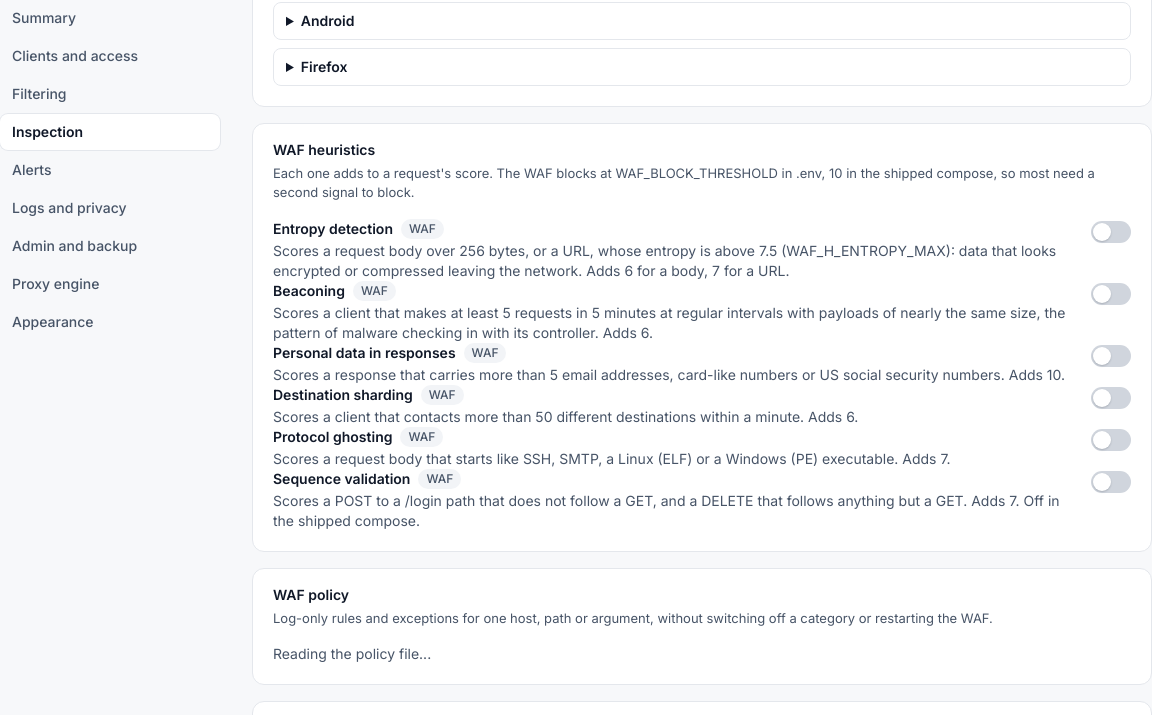
it: Settings sections, part B › Inspection › says the WAF took the toggle when it did
(page scrolled)
Click the switch named "Personal data in responses" in the row of "Personal data in responses". click: [1111, 356]
box: [1091, 344, 1131, 366]
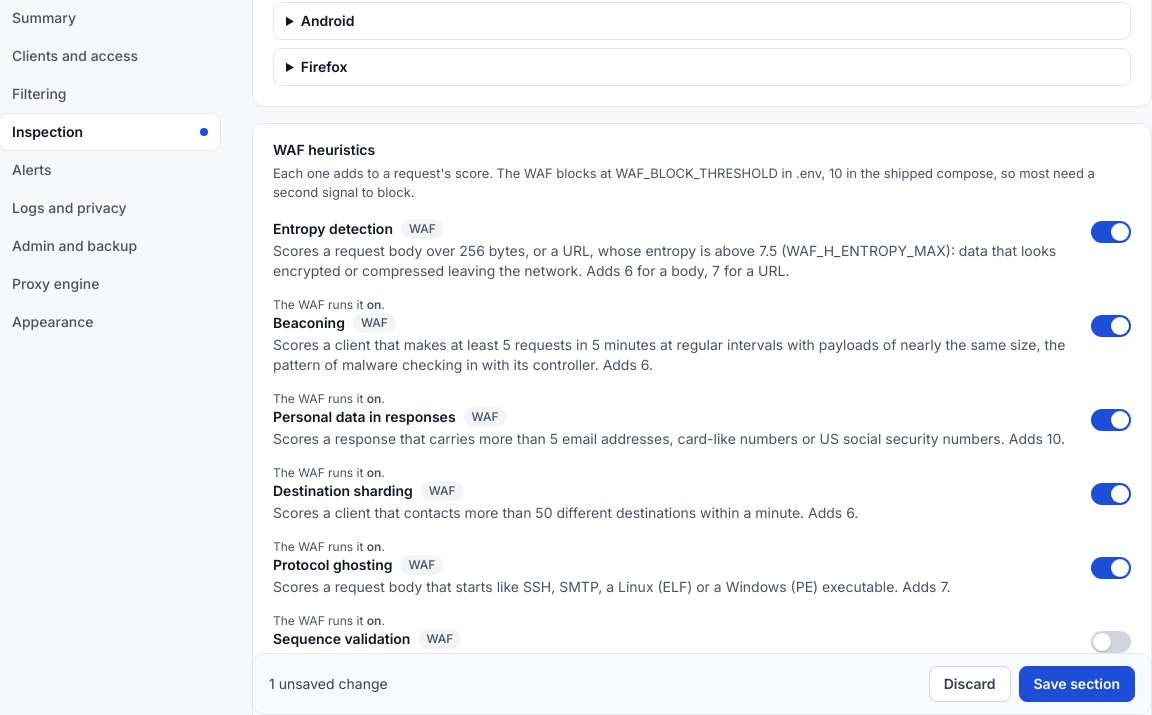
Click the button "Save section". click: [1077, 684]
box: [1018, 666, 1135, 702]
(page scrolled)
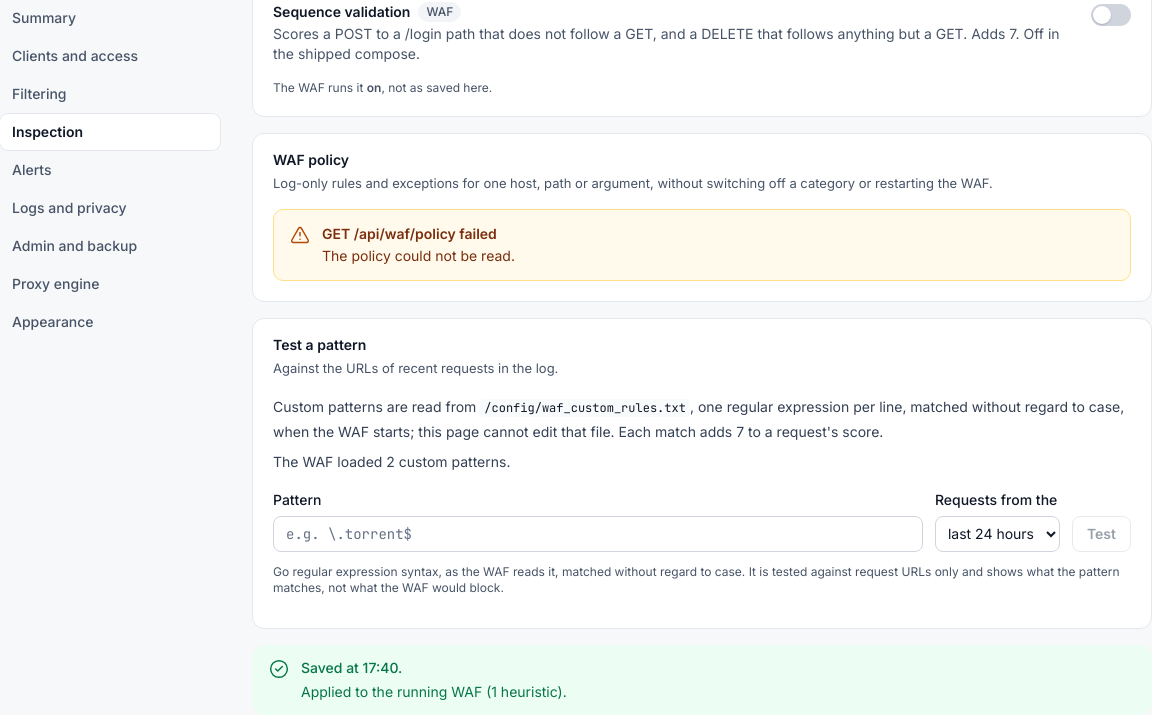
Now the text "Applied to the running WAF (1 heuristic)." is shown, box [301, 682, 567, 700]
